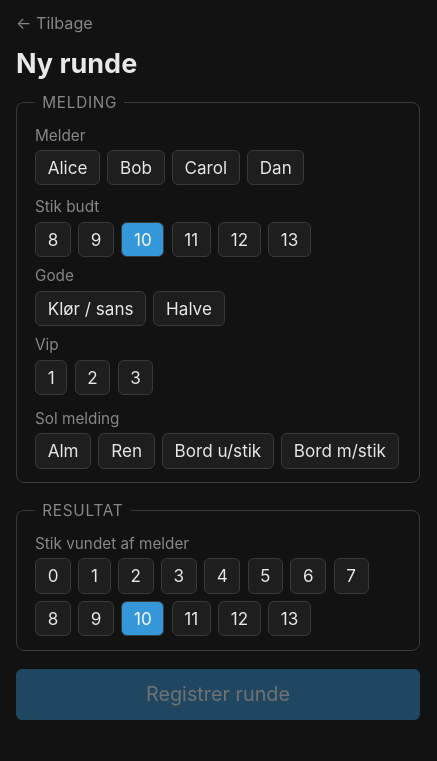
Scenario: Round screen - general › submit enabled once melder is set (no partner required)
Expected: the button "Registrer runde" is disabled, [16,669,420,720]
Click the button "Alice" at (68, 168), box [35,150,100,186]
(page scrolled)
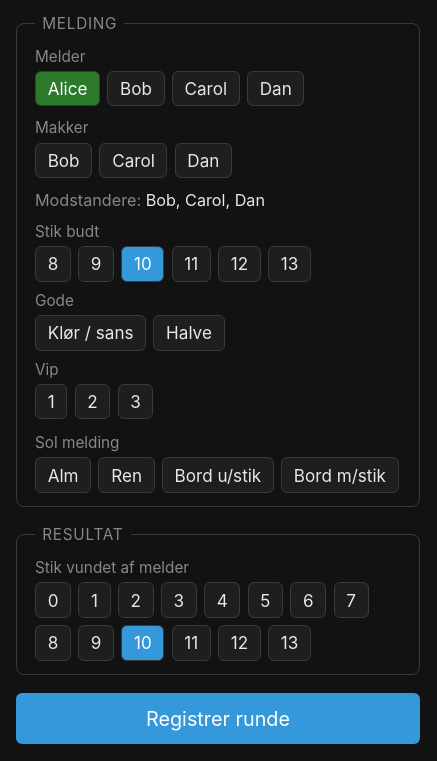
Result: the button "Registrer runde" is enabled at [16,693,420,744]
